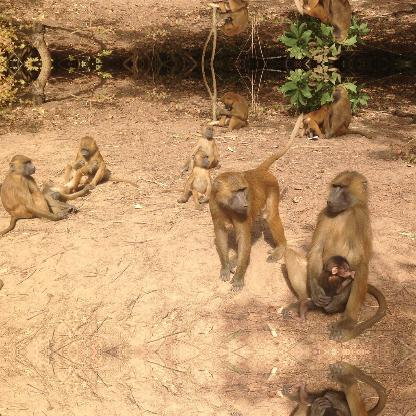Monkey: (283, 170, 385, 340), (209, 110, 299, 290), (0, 154, 74, 236), (283, 361, 386, 415), (287, 250, 355, 322), (62, 135, 130, 189), (212, 90, 278, 134), (163, 146, 211, 206), (324, 84, 372, 136), (212, 0, 279, 37), (287, 380, 356, 415), (324, 0, 373, 43), (181, 122, 223, 168), (303, 102, 331, 138), (303, 0, 332, 24)
